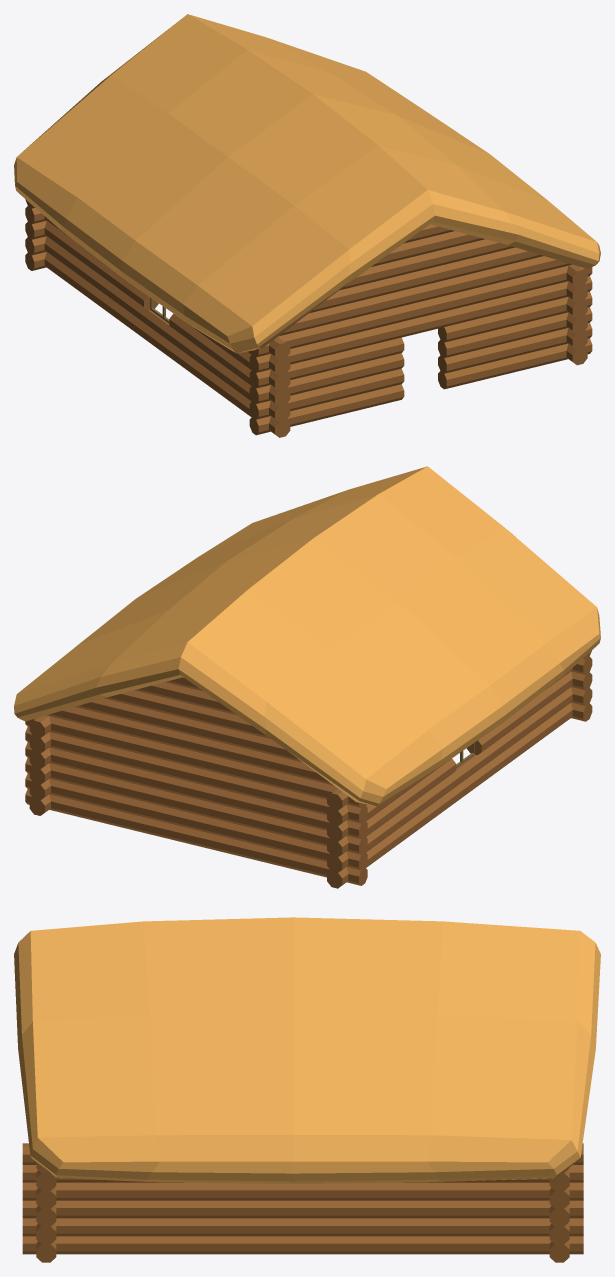
File: House 1.fbx
3 renders of one model, top to bottom at view 1: azimuth 30°, elevation 25°; view 2: azimuth 150°, elevation 25°; view 3: azimuth 270°, elevation 25°, orthographic. The views are drawn at different scales.
Parts seen in each view (by area): view 1: Cylinder.031, Cylinder.016; view 2: Cylinder.031, Cylinder.016; view 3: Cylinder.031, Cylinder.016.
Part boxes in pixels (<box>): Cylinder.031: <box>14,14,600,353</box>; Cylinder.016: <box>25,199,592,437</box>; Cylinder.031: <box>14,466,600,806</box>; Cylinder.016: <box>25,650,592,888</box>; Cylinder.031: <box>14,917,600,1183</box>; Cylinder.016: <box>22,1143,583,1262</box>.
Size of the model in its own units: 4636 by 2546 by 5377.
